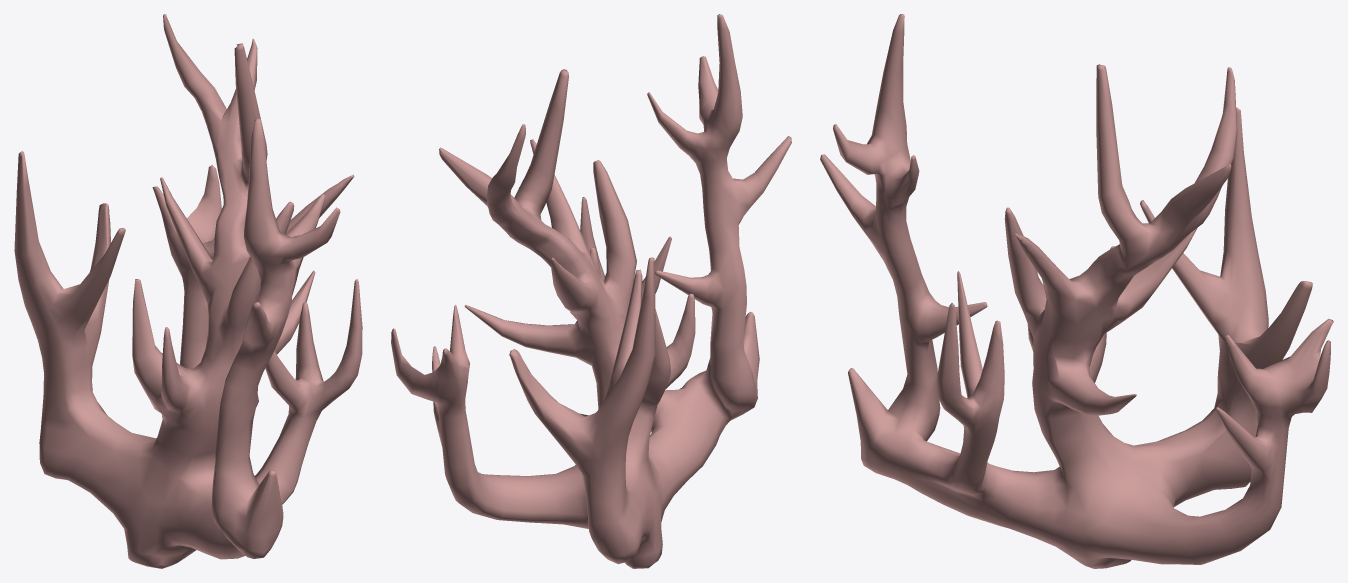
File: SM_ocean_staghornCoral_01.fbx
3 renders of one model, left to right at view 1: azimuth 30°, elevation 25°; view 2: azimuth 150°, elevation 25°; view 3: azimuth 270°, elevation 25°, orthographic. The views are drawn at different scales.
Parts seen in each view (by area): view 1: SM_ocean_staghornCoral_01_LOD0; view 2: SM_ocean_staghornCoral_01_LOD0; view 3: SM_ocean_staghornCoral_01_LOD0.
Boxes of the visible parts, box(x1,y1,x2,y2) form: SM_ocean_staghornCoral_01_LOD0: box(14, 14, 362, 568); SM_ocean_staghornCoral_01_LOD0: box(391, 14, 791, 568); SM_ocean_staghornCoral_01_LOD0: box(820, 14, 1333, 568).
Size of what is drawn, in the model's own units: 39.07 by 64.33 by 76.54.
